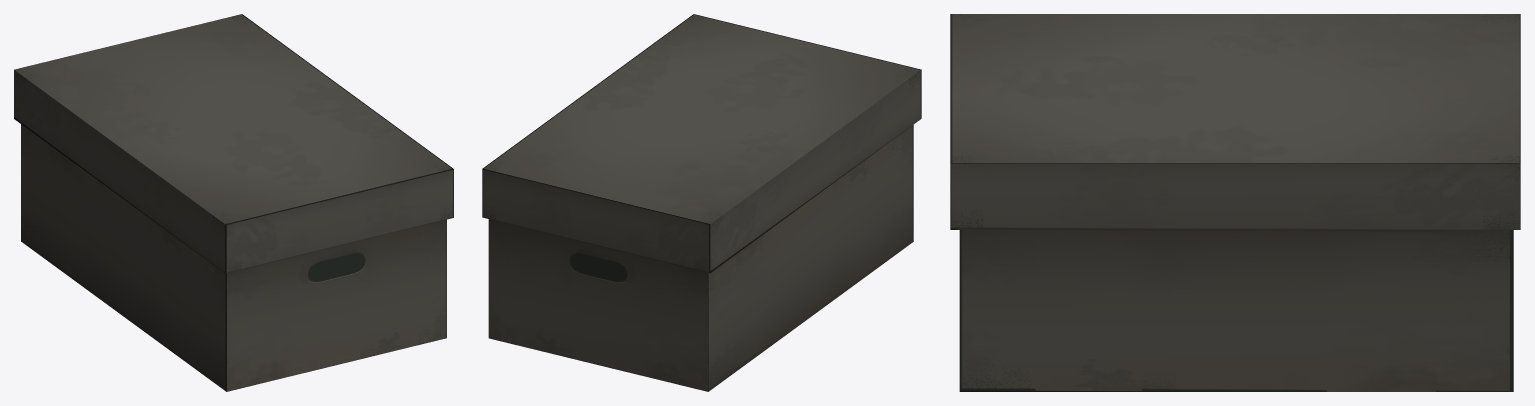
The model's file is BoxClosed.fbx.
The picture shows the model from 3 angles, left to right: view 1: azimuth 30°, elevation 25°; view 2: azimuth 150°, elevation 25°; view 3: azimuth 270°, elevation 25°; orthographic projection. The views are drawn at different scales.
Visible parts, largest first — view 1: BoxClosedMesh; view 2: BoxClosedMesh; view 3: BoxClosedMesh.
Boxes of the visible parts, bbox=[...] form: BoxClosedMesh: bbox=[14, 14, 453, 391]; BoxClosedMesh: bbox=[482, 14, 921, 391]; BoxClosedMesh: bbox=[950, 14, 1520, 391].
Size of the model in its own units: 35.96 by 25.74 by 57.77.
Materials: 1 (1 with a texture image).
